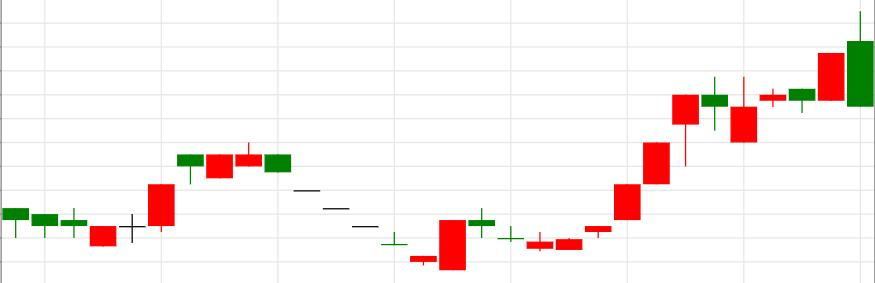bearish_engulfing_fall: (731, 11, 874, 142)
hanging_man_fall: (556, 96, 699, 250)
